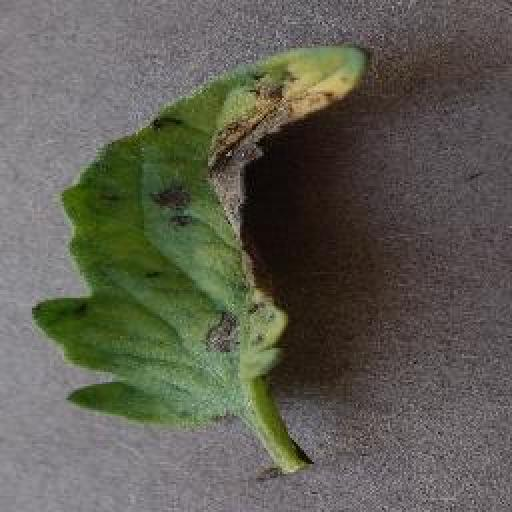Early Blight: (32, 39, 370, 429)
